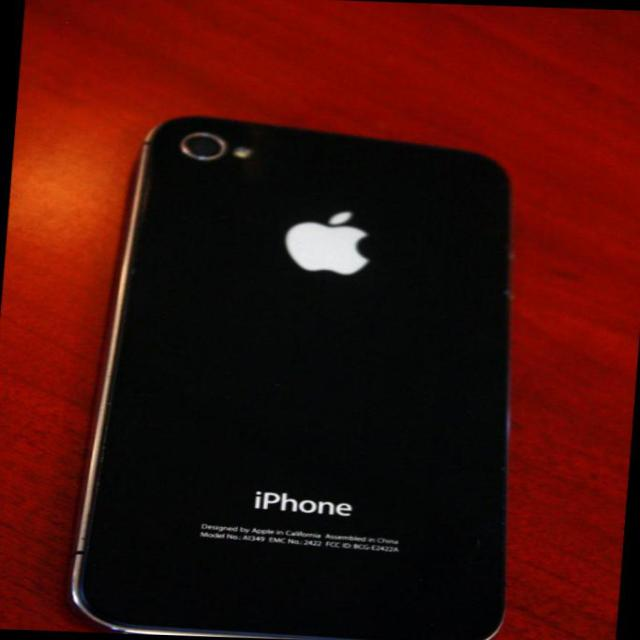handphone: (75, 119, 508, 634)
